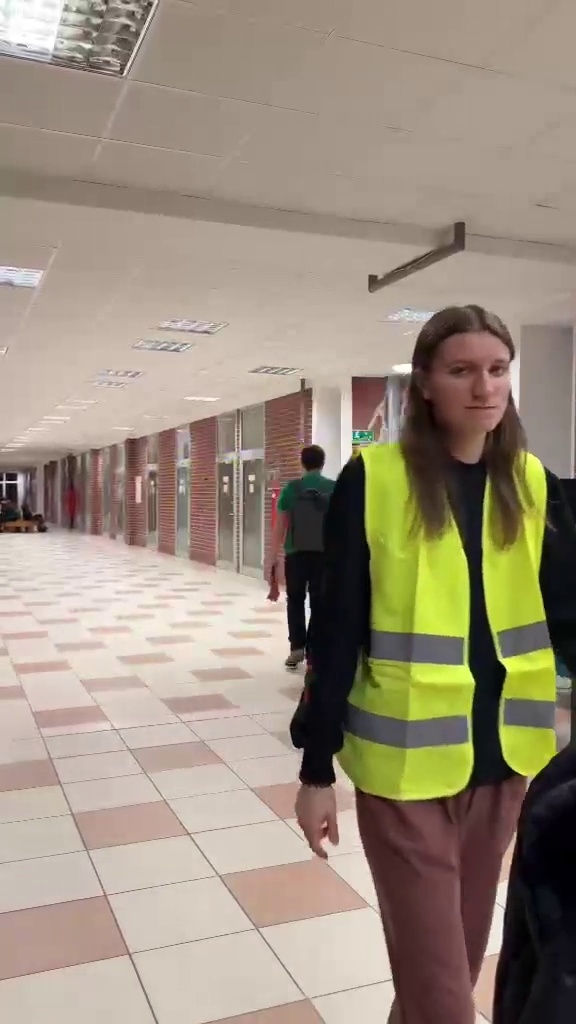no vest: (258, 435, 335, 655)
vest: (335, 297, 576, 971)
